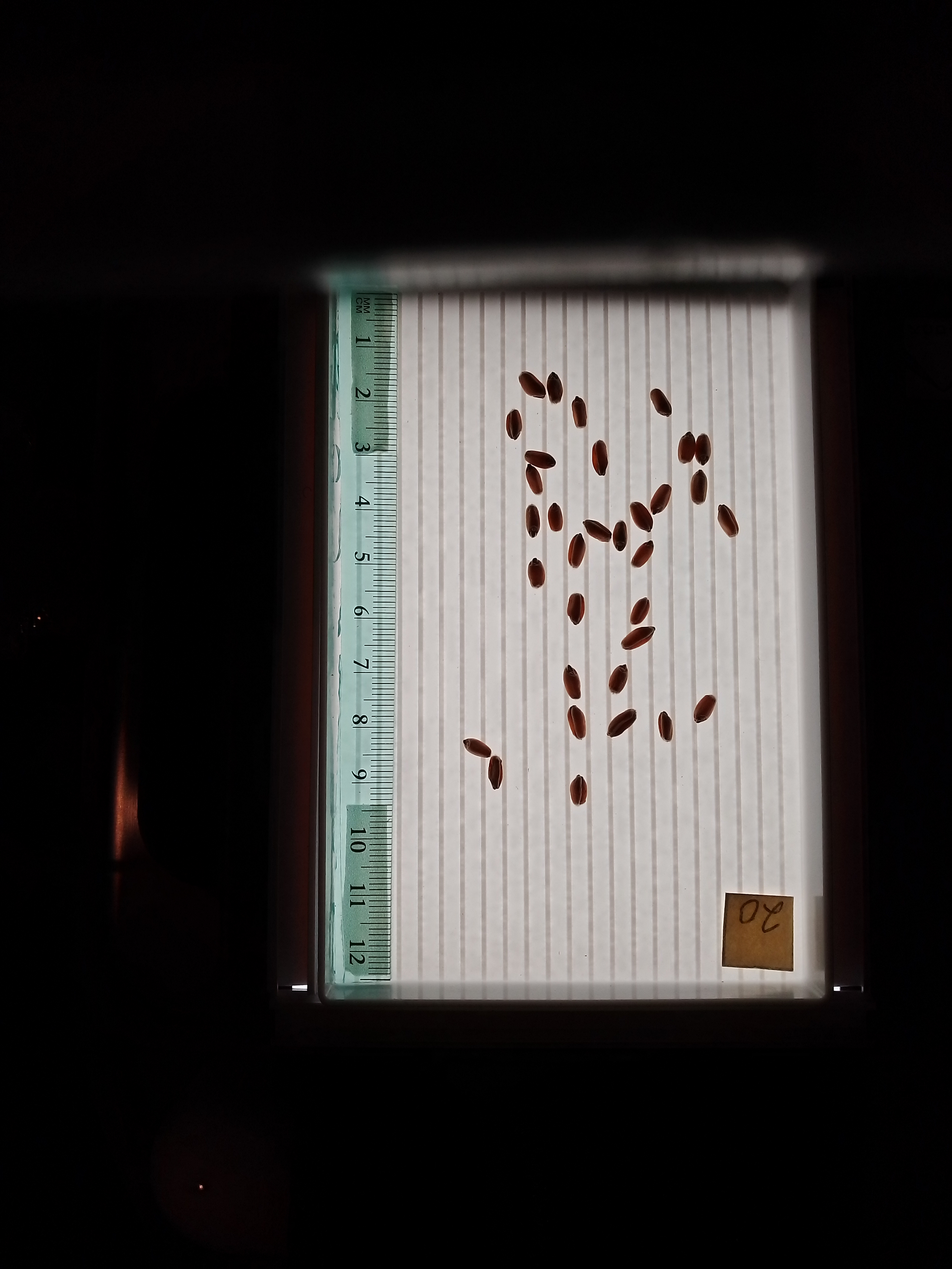seed mask: (607, 709, 637, 738), (622, 626, 654, 651), (717, 505, 739, 537), (650, 484, 671, 515), (520, 372, 545, 398), (567, 706, 586, 739), (631, 503, 653, 531), (694, 695, 716, 723), (568, 535, 586, 568), (651, 389, 672, 416), (564, 666, 581, 699), (609, 665, 628, 694), (585, 520, 610, 542), (691, 471, 707, 505), (592, 441, 608, 475), (570, 775, 588, 805), (526, 451, 554, 470), (488, 756, 504, 789), (678, 433, 695, 464), (632, 542, 653, 567), (567, 595, 585, 624), (695, 434, 711, 466), (547, 373, 563, 404), (465, 739, 491, 758), (526, 466, 543, 495), (528, 559, 545, 588), (631, 598, 649, 624), (506, 410, 522, 439), (658, 713, 674, 742), (572, 398, 587, 428), (612, 521, 627, 551), (526, 506, 540, 536), (548, 504, 563, 532)
